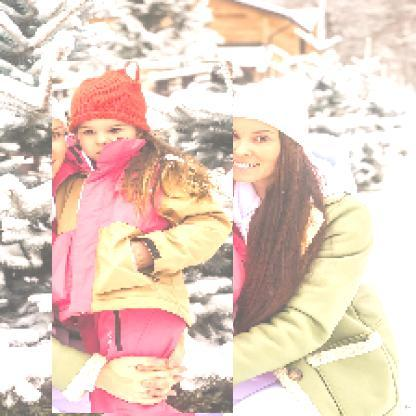child: (53, 62, 235, 415)
